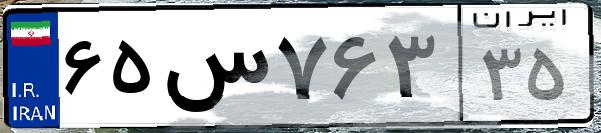3: (385, 28, 445, 110), (475, 38, 525, 113)
5: (525, 38, 570, 115), (110, 28, 158, 98)
6: (330, 28, 385, 110), (57, 26, 110, 100)
7: (270, 28, 330, 110)
س: (158, 20, 270, 120)
